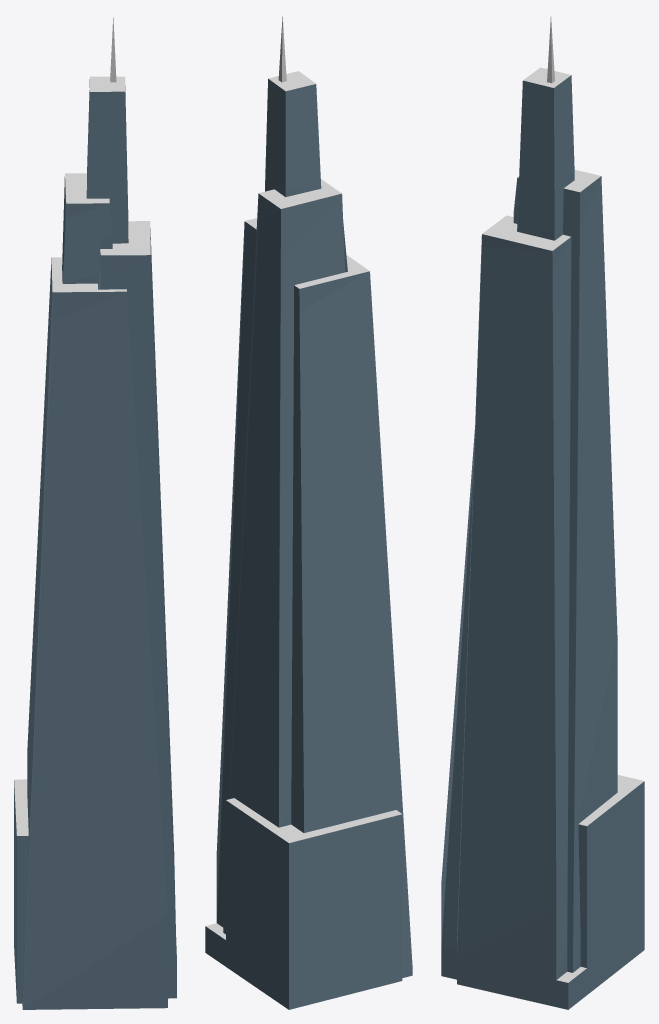
File: one-vanderbilt.glb
3 renders of one model, left to right at view 1: azimuth 30°, elevation 25°; view 2: azimuth 150°, elevation 25°; view 3: azimuth 270°, elevation 25°, orthographic.
Visible parts, largest first — view 1: One Vanderbilt; view 2: One Vanderbilt; view 3: One Vanderbilt.
Boxes of the visible parts, x1,y1,x2,y2 form: One Vanderbilt: (14, 17, 176, 1009); One Vanderbilt: (205, 16, 412, 1009); One Vanderbilt: (441, 16, 644, 1009).
Bounding box in the file's own units: 84.16 × 427 × 81.8.
